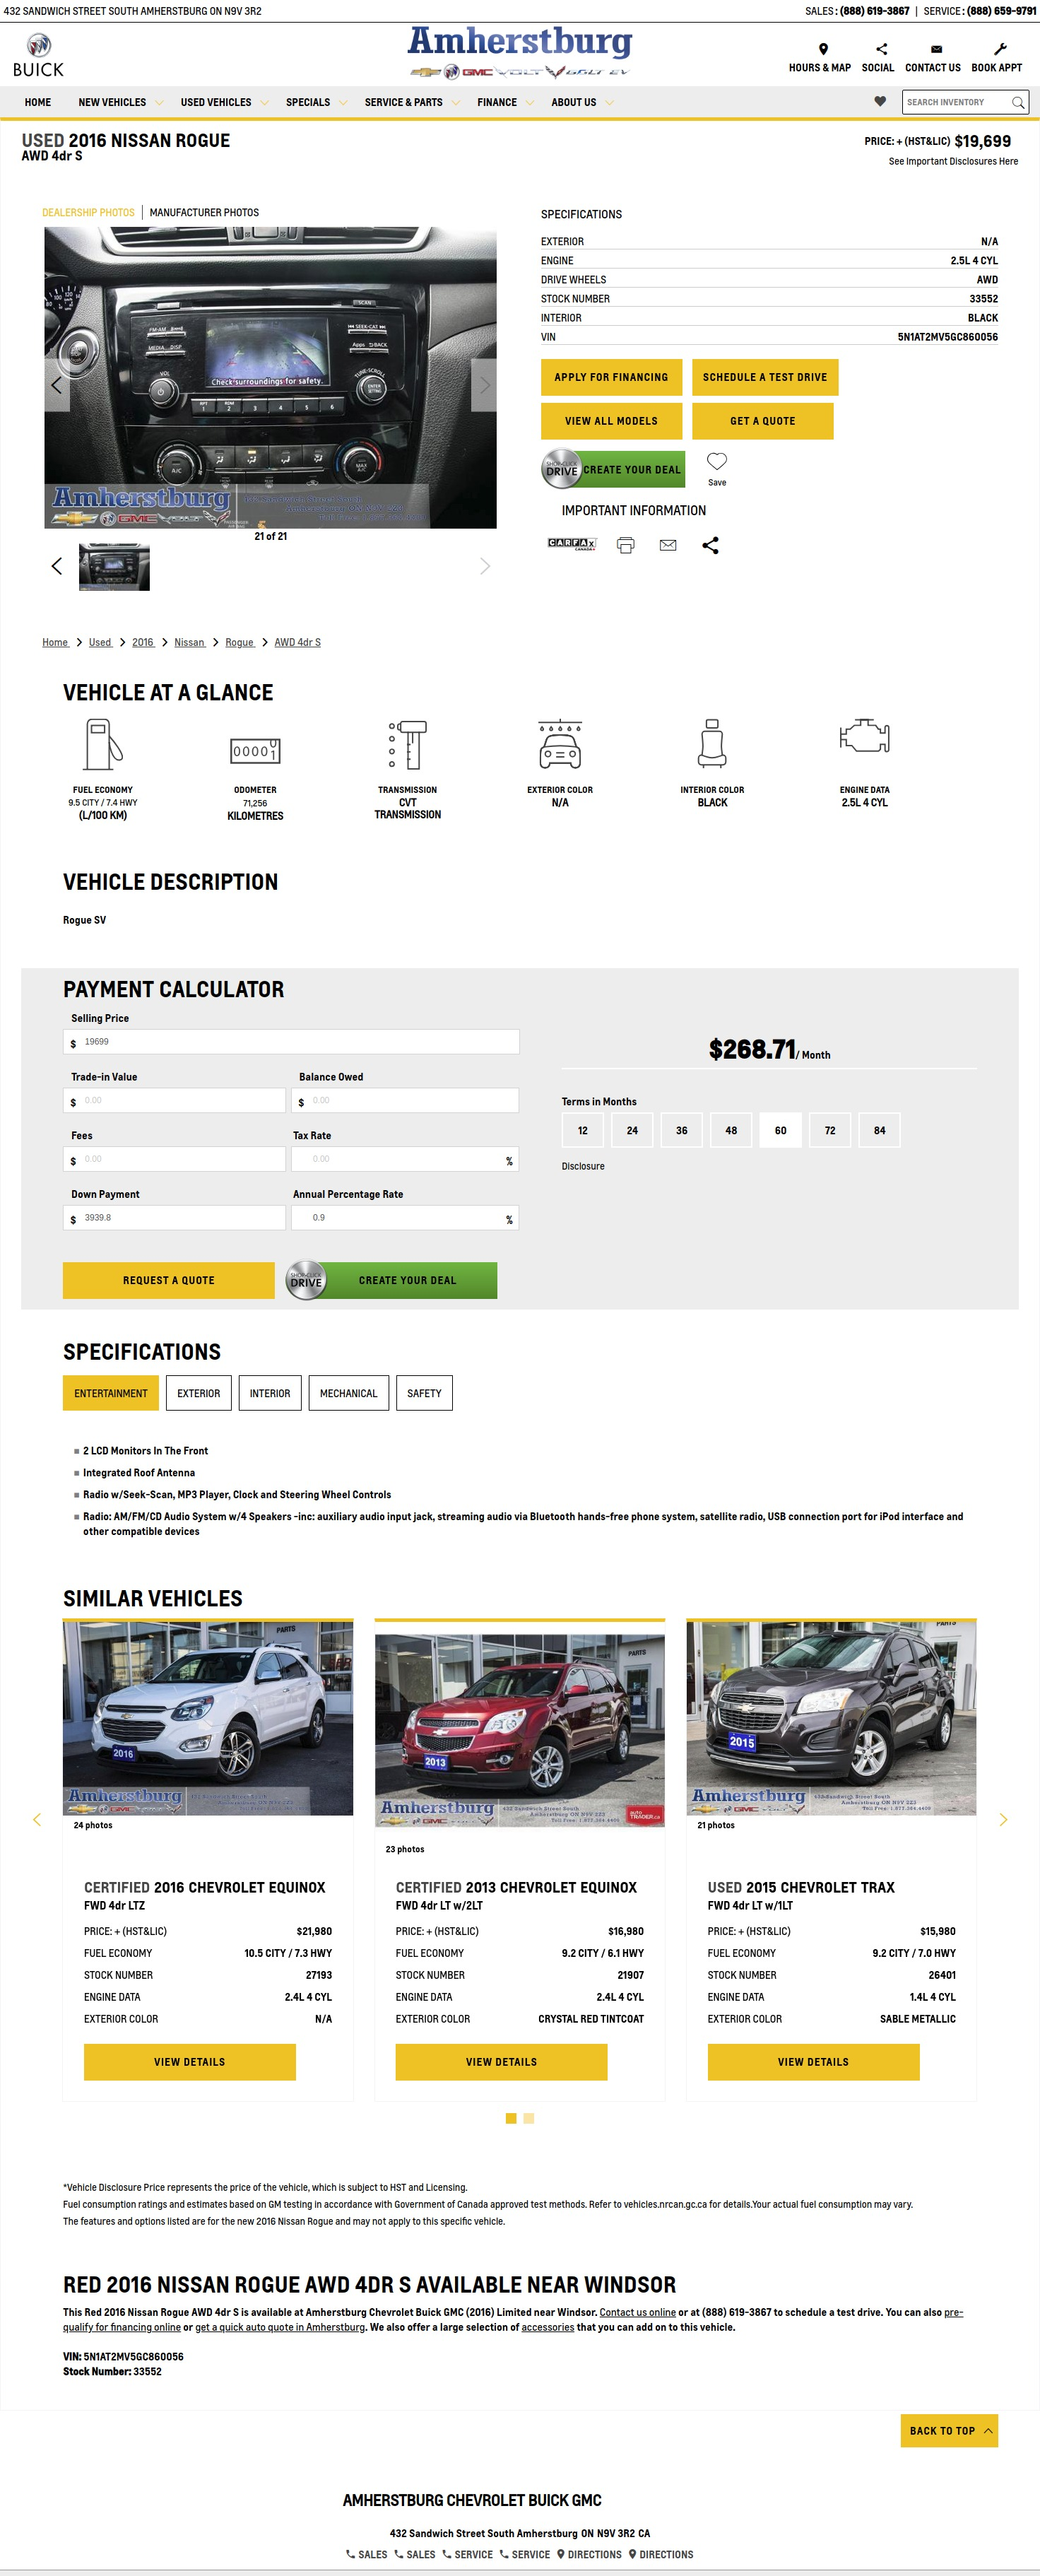car: (480, 557, 491, 577)
